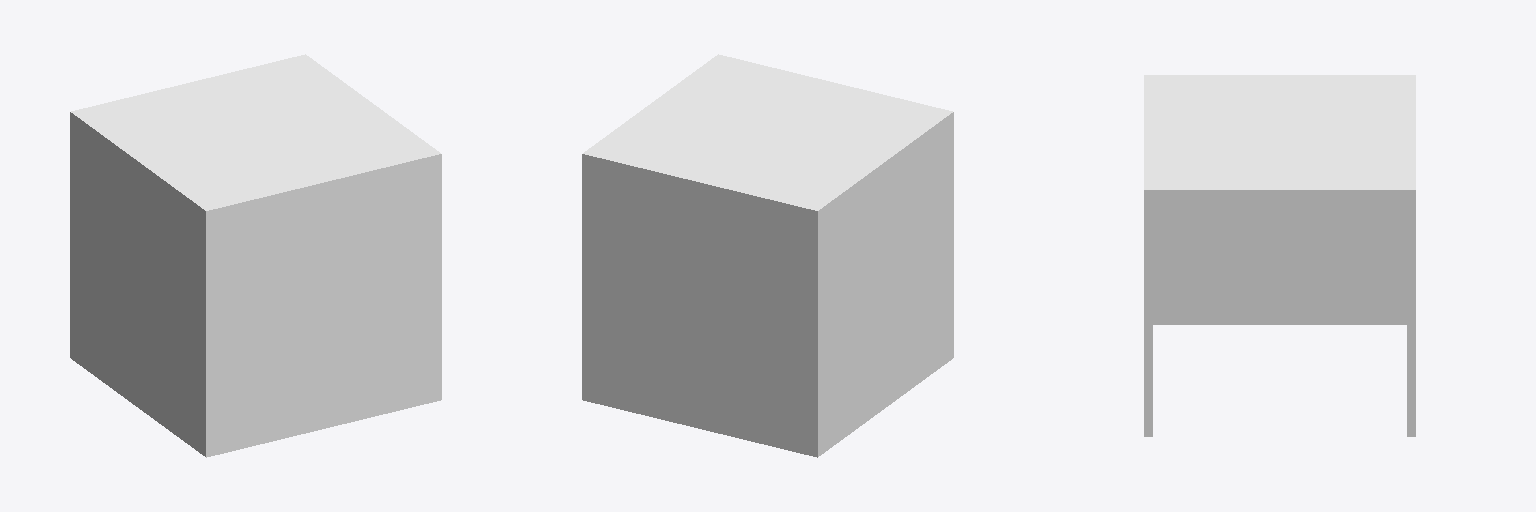
3 views of the same model, side by side, from view 1: azimuth 30°, elevation 25°; view 2: azimuth 150°, elevation 25°; view 3: azimuth 270°, elevation 25° (orthographic).
Visible parts, largest first — view 1: test-52; view 2: test-52; view 3: test-52.
Part boxes in pixels (bbox=[...]): test-52: bbox=[70, 54, 441, 457]; test-52: bbox=[582, 54, 953, 457]; test-52: bbox=[1144, 75, 1415, 436].
Size of the model in its own units: 32 by 32 by 32.